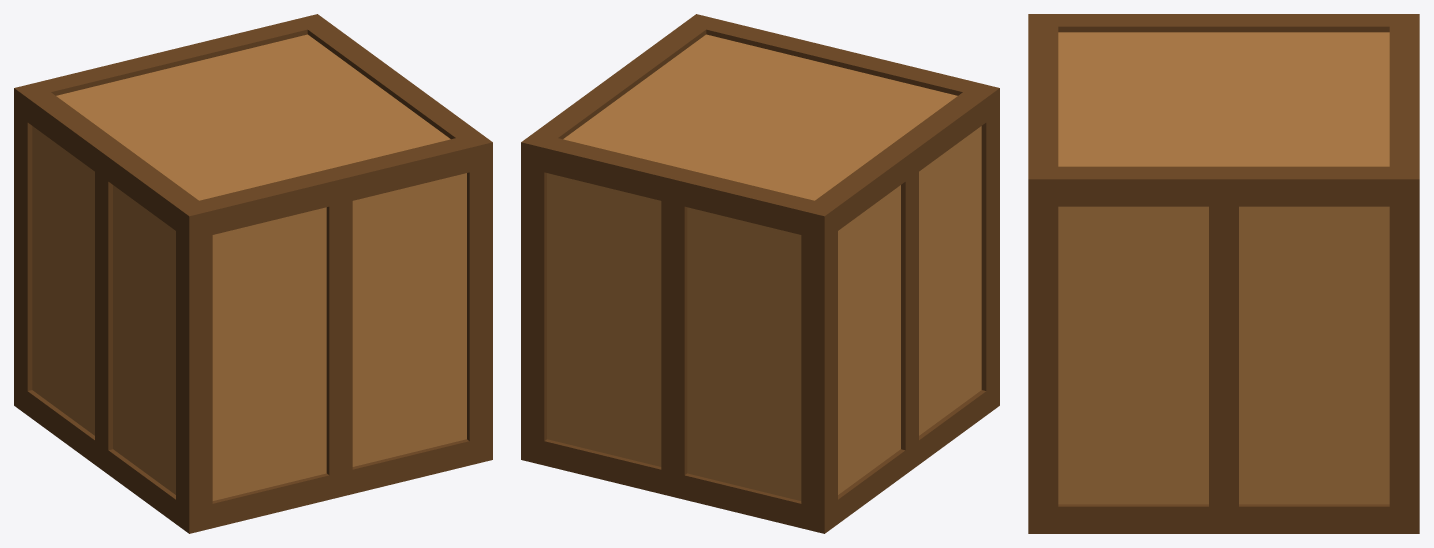
File: crate.glb
3 views of the same model, side by side, from view 1: azimuth 30°, elevation 25°; view 2: azimuth 150°, elevation 25°; view 3: azimuth 270°, elevation 25° (orthographic). The views are drawn at different scales.
Visible parts, largest first — view 1: Crate; view 2: Crate; view 3: Crate.
Part boxes in pixels (bbox=[...]): Crate: bbox=[14, 14, 492, 533]; Crate: bbox=[521, 14, 999, 533]; Crate: bbox=[1028, 14, 1419, 533].
Bounding box in the file's own units: 1.3 × 1.3 × 1.3.
